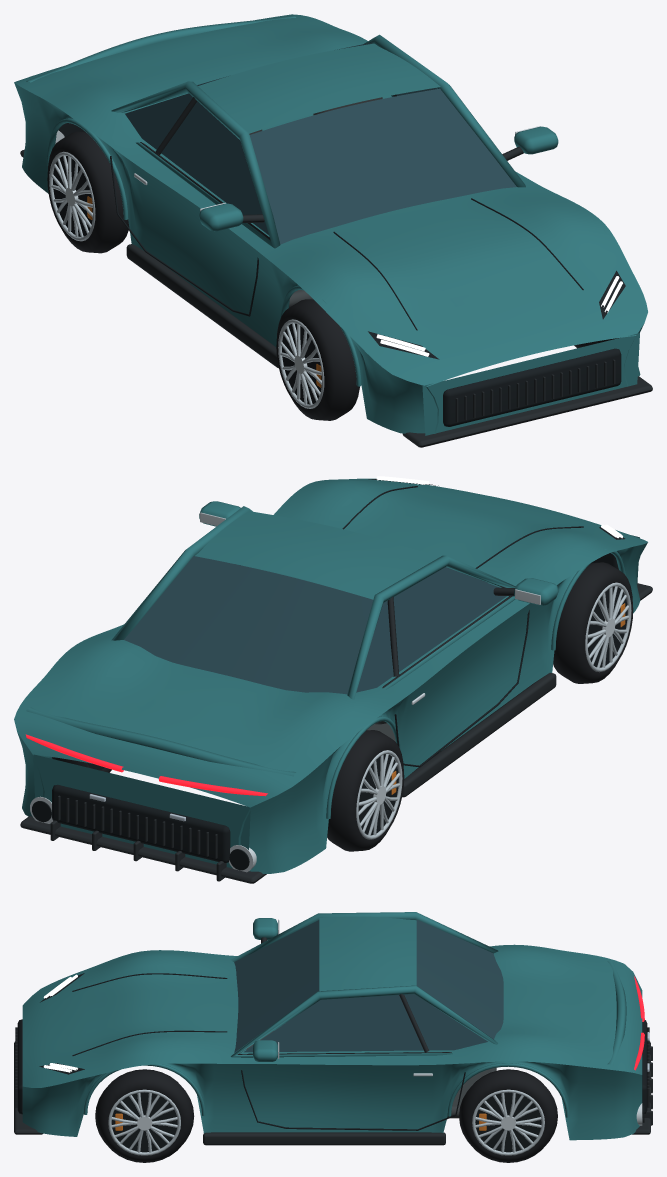
File: solstice-gt-lod.glb
3 renders of one model, top to bottom at view 1: azimuth 30°, elevation 25°; view 2: azimuth 150°, elevation 25°; view 3: azimuth 270°, elevation 25°, orthographic. The views are drawn at different scales.
Visible parts, largest first — view 1: body-shell, Windshield, Sculpted flank, Roof, Side glass, Recessed intake, Tire shoulder.002, Painted fascia, Tire shoulder, Cabin frame, Carbon sill, Splitter (+10 smaller); view 2: body-shell, Fastback glass, Sculpted flank, Roof, Side glass, Painted fascia.001, Rear diffuser, Tire shoulder.002, Tire shoulder, Cabin frame, Carbon sill, Diffuser lip (+13 smaller); view 3: body-shell, Sculpted flank.001, Side glass.001, Roof, Windshield, Fastback glass, Tire shoulder.001, Tire shoulder.003, Carbon sill.001, Cabin frame.001, Wheel barrel.001, Wheel barrel.003 (+13 smaller).
Boxes of the visible parts, bbox=[...] form: body-shell: bbox=[14, 14, 647, 386]; Windshield: bbox=[249, 88, 516, 244]; Sculpted flank: bbox=[14, 82, 438, 433]; Roof: bbox=[198, 43, 440, 133]; Side glass: bbox=[125, 93, 268, 234]; Recessed intake: bbox=[443, 348, 621, 426]; Tire shoulder.002: bbox=[276, 299, 359, 420]; Painted fascia: bbox=[422, 333, 639, 435]; Tire shoulder: bbox=[47, 131, 129, 253]; Cabin frame: bbox=[111, 81, 280, 248]; Carbon sill: bbox=[126, 244, 278, 368]; Splitter: bbox=[402, 376, 652, 447]; body-shell: bbox=[14, 478, 647, 807]; Fastback glass: bbox=[124, 556, 373, 694]; Sculpted flank: bbox=[238, 542, 647, 873]; Roof: bbox=[195, 511, 438, 599]; Side glass: bbox=[356, 567, 506, 692]; Painted fascia.001: bbox=[33, 754, 250, 868]; Rear diffuser: bbox=[52, 784, 230, 862]; Tire shoulder.002: bbox=[553, 562, 633, 683]; Tire shoulder: bbox=[327, 730, 404, 851]; Cabin frame: bbox=[347, 555, 515, 699]; Carbon sill: bbox=[402, 672, 556, 797]; Diffuser lip: bbox=[20, 816, 266, 883]; body-shell: bbox=[22, 944, 642, 1087]; Sculpted flank.001: bbox=[22, 1061, 642, 1140]; Side glass.001: bbox=[244, 994, 487, 1052]; Roof: bbox=[319, 916, 416, 991]; Windshield: bbox=[234, 920, 319, 1052]; Fastback glass: bbox=[416, 919, 503, 1039]; Tire shoulder.001: bbox=[459, 1069, 557, 1162]; Tire shoulder.003: bbox=[95, 1069, 194, 1162]; Carbon sill.001: bbox=[203, 1132, 445, 1145]; Cabin frame.001: bbox=[231, 985, 497, 1057]; Wheel barrel.001: bbox=[475, 1092, 541, 1152]; Wheel barrel.003: bbox=[111, 1092, 177, 1152].
Bounding box in the file's own units: 2.44 × 1.34 × 4.86.
